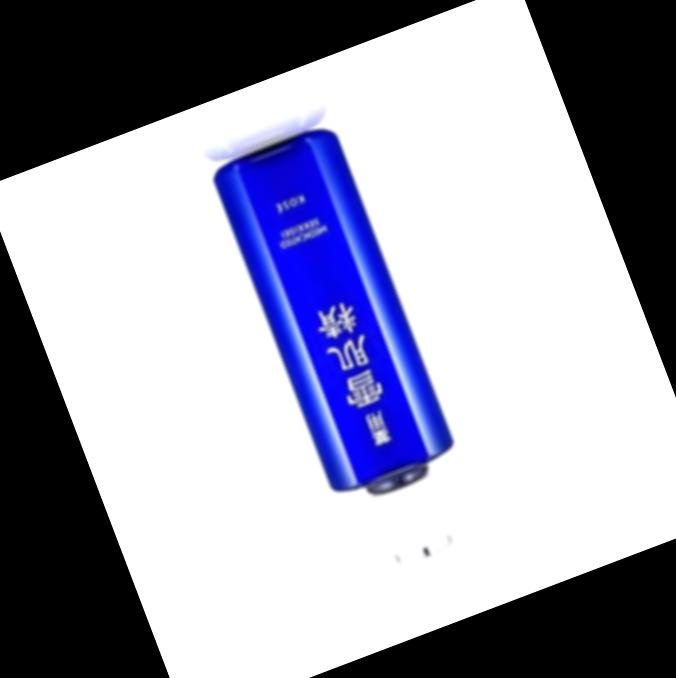cosmetic: (201, 119, 489, 579)
